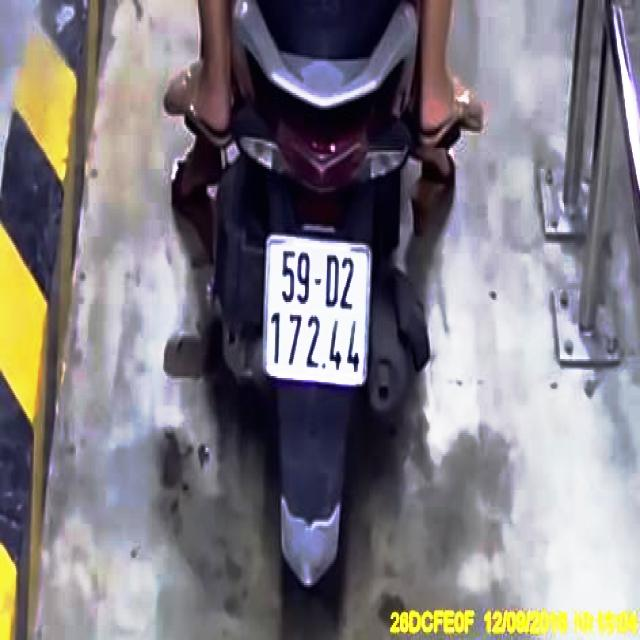license_plate: (267, 237, 373, 383)
